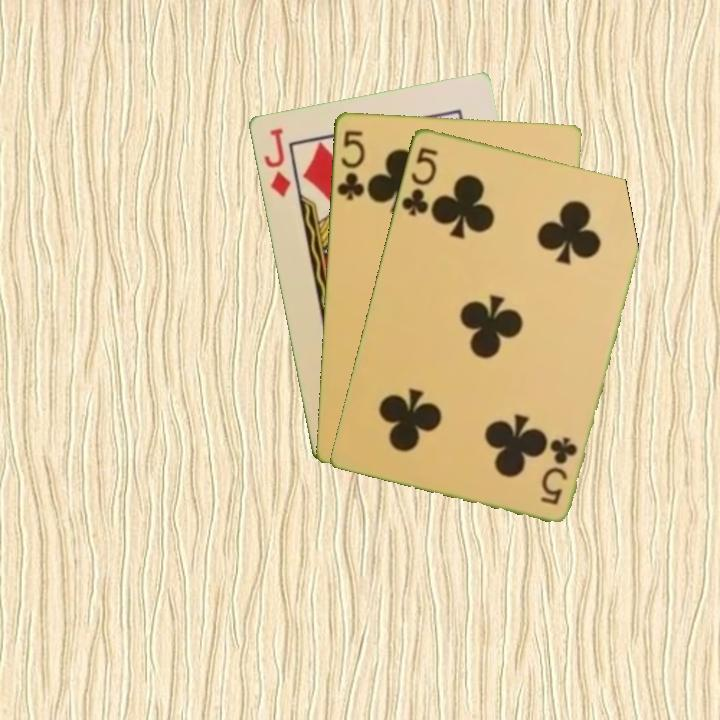5c: (397, 143, 440, 219), (537, 433, 580, 507), (333, 126, 367, 203)
Jd: (260, 124, 293, 200)
